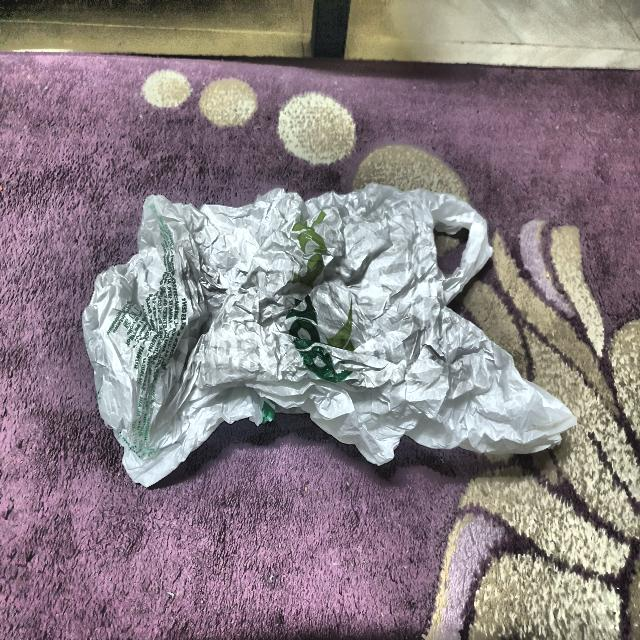plastic bag: (66, 172, 576, 498)
